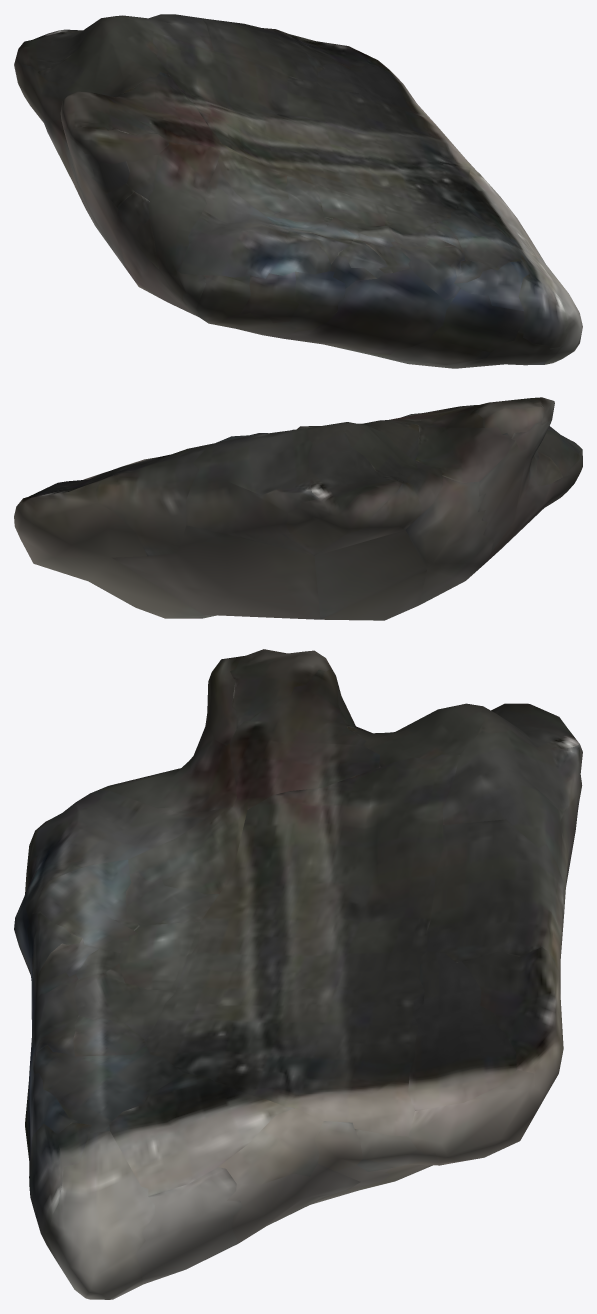
The model's file is hall.glb.
3 views of the same model, one above another, from view 1: azimuth 30°, elevation 25°; view 2: azimuth 150°, elevation 25°; view 3: azimuth 270°, elevation 25° (orthographic). The views are drawn at different scales.
Size of the model in its own units: 0.359 by 0.2385 by 0.3053.
Materials: 1 (1 with a texture image).
